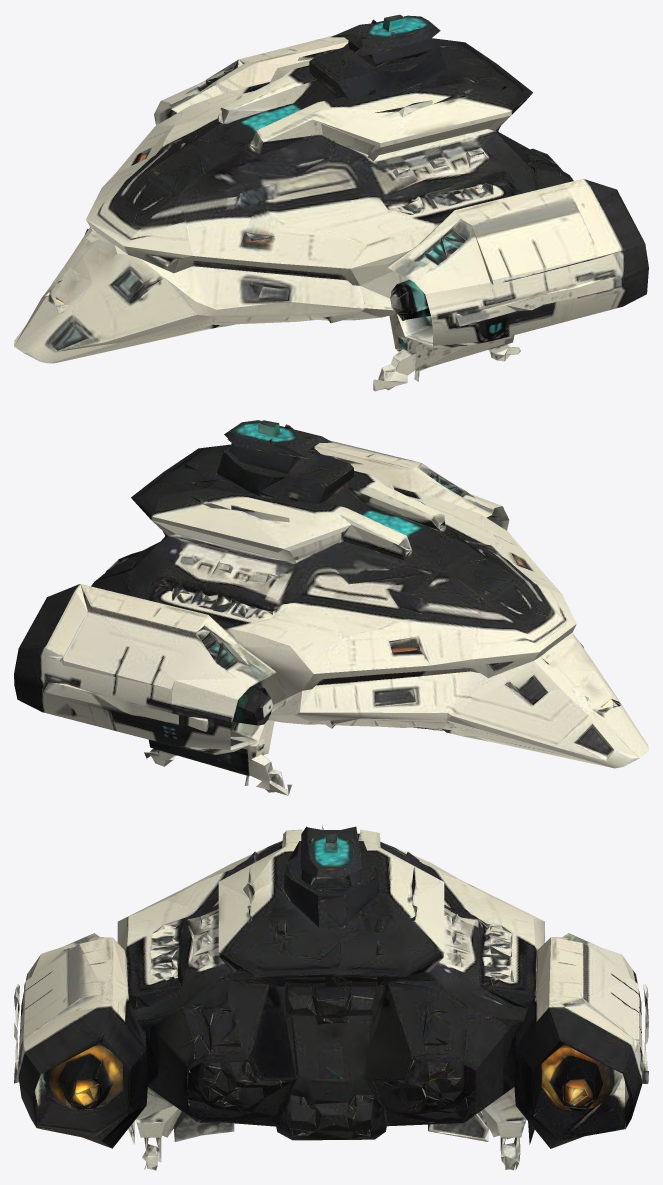
Rendered from vessel-bastion.glb.
3 views of the same model, one above another, from view 1: azimuth 30°, elevation 25°; view 2: azimuth 150°, elevation 25°; view 3: azimuth 270°, elevation 25° (orthographic). The views are drawn at different scales.
Size of the model in its own units: 1.88 by 1.05 by 1.9.
1 material, 1 textured.
